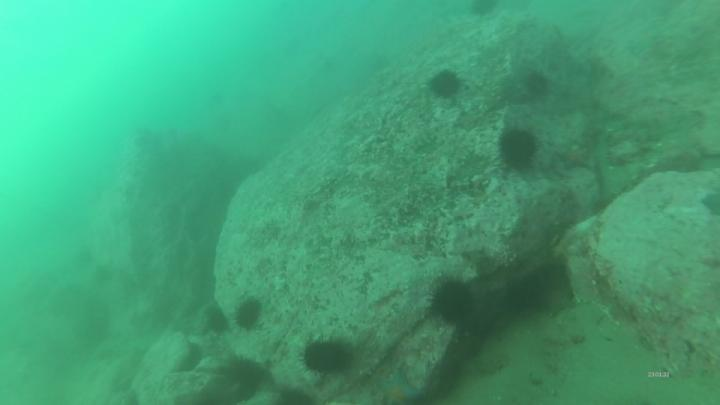echinus: (432, 285, 474, 322), (307, 342, 352, 372), (502, 132, 535, 171), (526, 72, 552, 100), (237, 301, 261, 331), (431, 72, 460, 95), (205, 311, 228, 333)
holothurian: (596, 134, 619, 198)
starfish: (374, 376, 421, 405), (561, 146, 590, 171), (220, 358, 248, 379)
